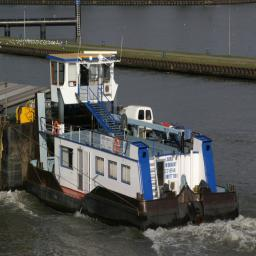tugboat: (25, 33, 242, 236)
